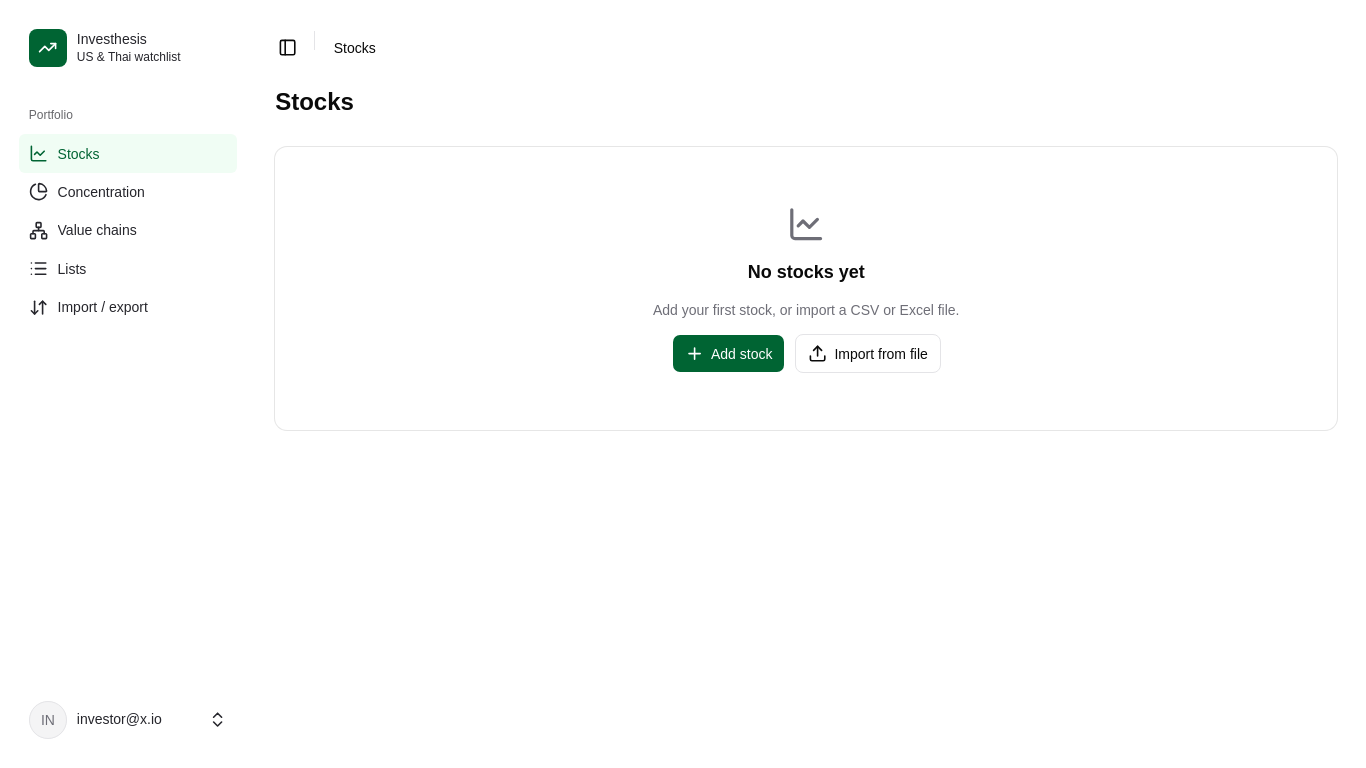
Test: account menu › TC-U-035: shows the signed-in email from GET /me with initials IN
Expected: the text "investor@x.io" is shown once, [77, 711, 162, 727]
Expected: the text "IN" is shown, [29, 701, 67, 739]
Click the button with aria-label "Account menu".
click(128, 720)  # box [19, 691, 237, 749]
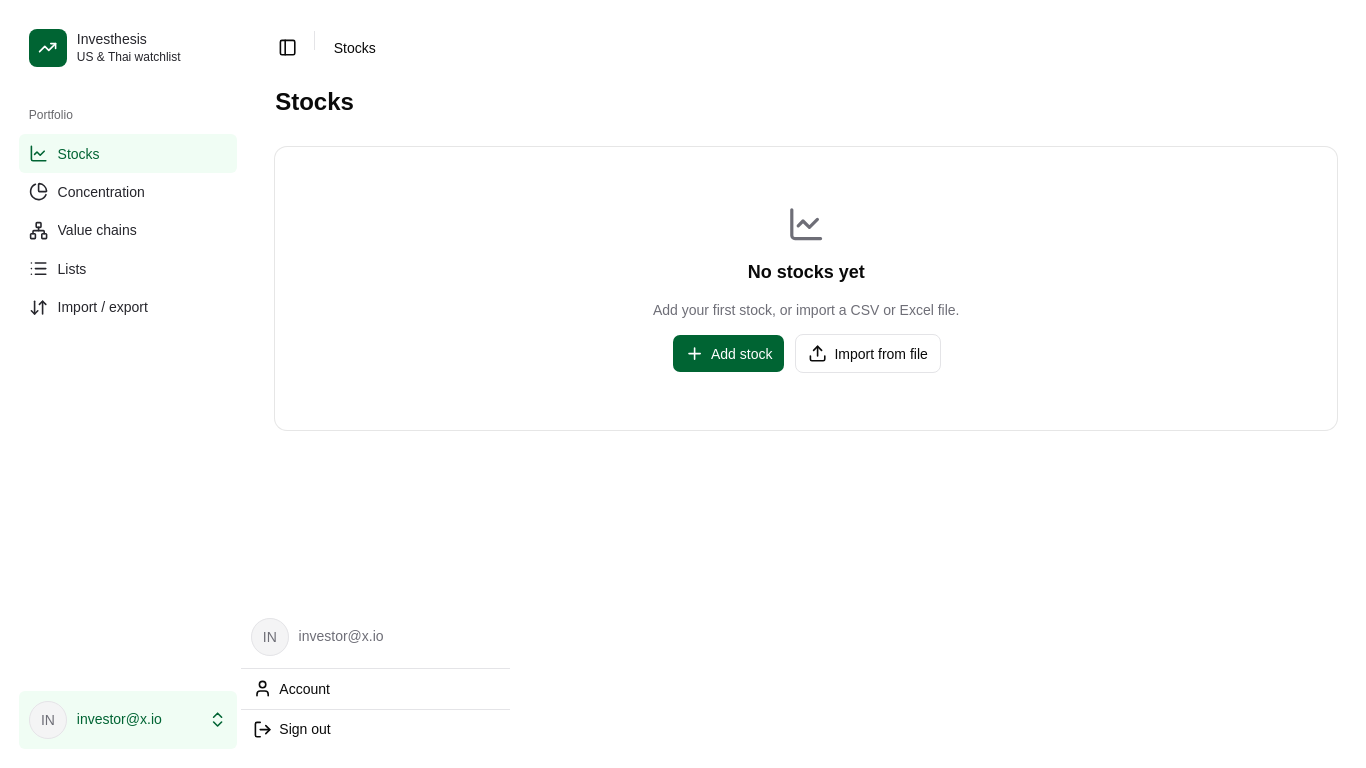
Now the text "investor@x.io" is shown once, box [299, 628, 384, 644]
